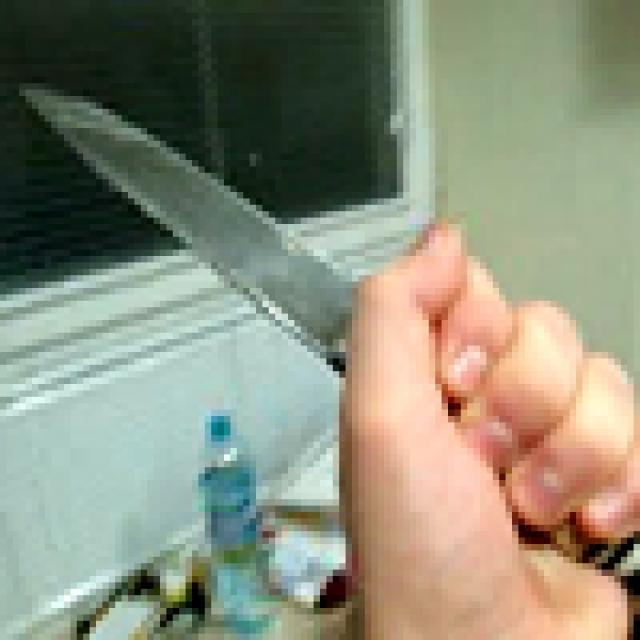knife: (45, 76, 640, 602)
